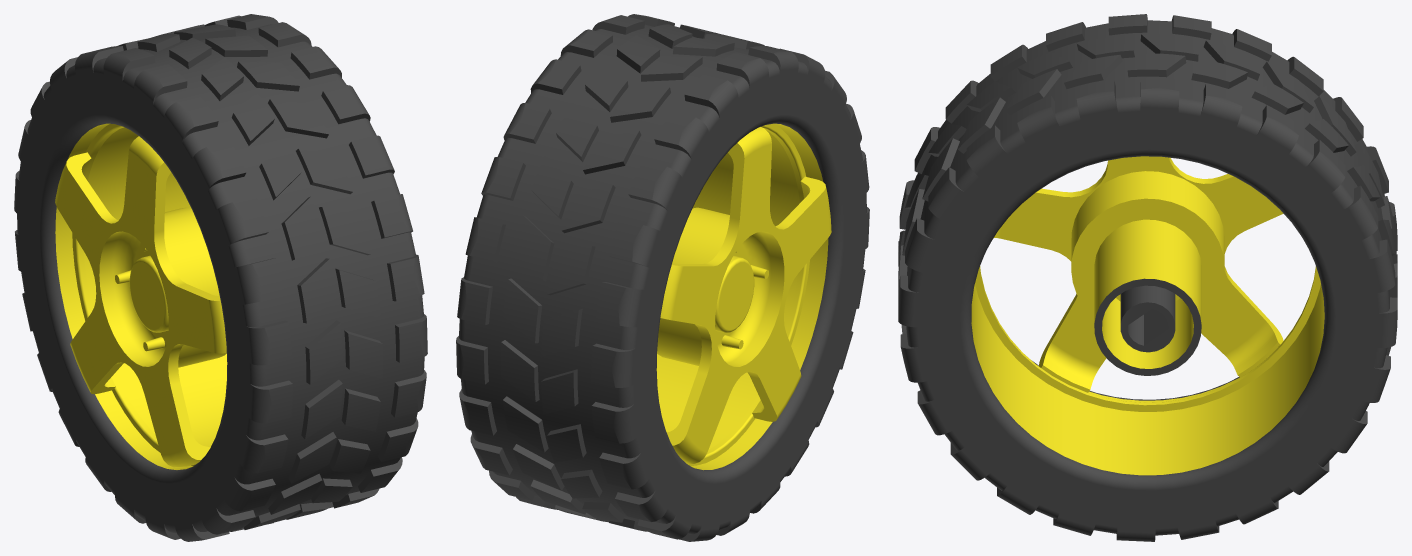
Rendered from body2_visual.obj.
3 views of the same model, side by side, from view 1: azimuth 30°, elevation 25°; view 2: azimuth 150°, elevation 25°; view 3: azimuth 270°, elevation 25° (orthographic).
Visible parts, largest first — view 1: Body2; view 2: Body2; view 3: Body2.
Part boxes in pixels (box(x1,y1,x2,y2)): Body2: box(14, 14, 427, 541); Body2: box(456, 14, 869, 541); Body2: box(898, 14, 1397, 541).
Bounding box in the file's own units: 2.82 × 6.5 × 6.5.
